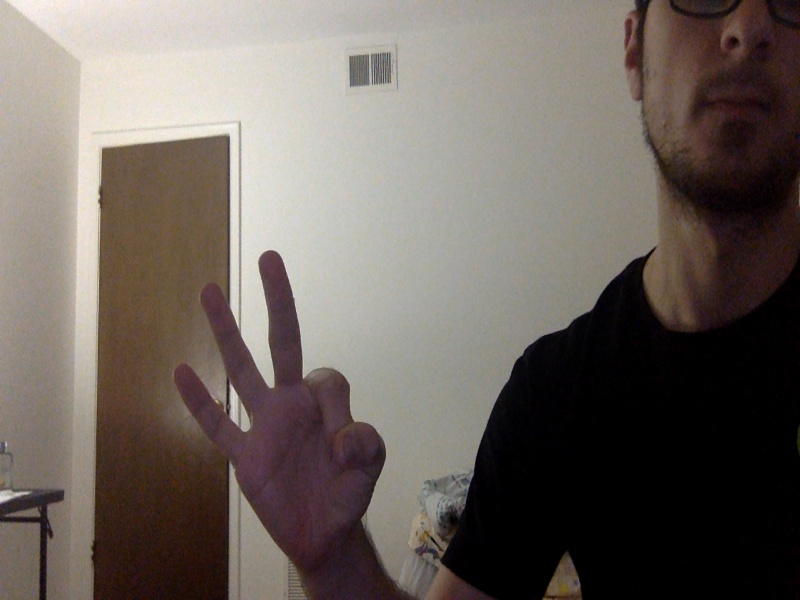3-hand: (172, 249, 386, 570)
